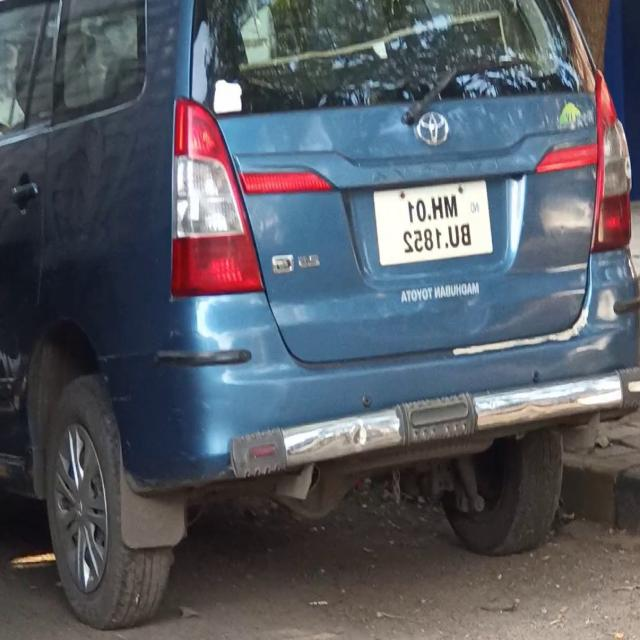license_plate: (371, 173, 494, 270)
